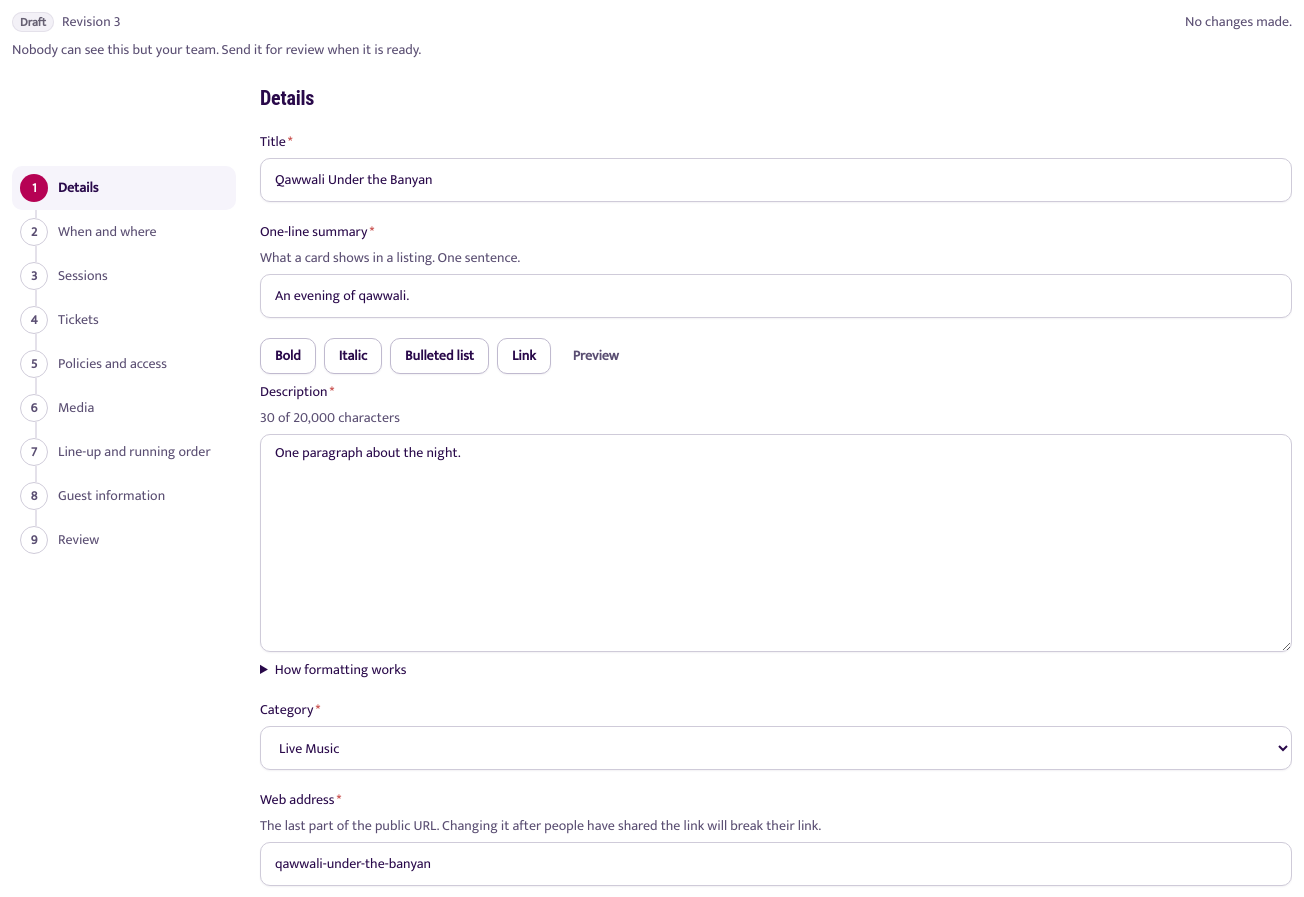
Test case: when somebody else has saved first › keeps the unsaved text on screen so it can be copied
Clear the field labelled "Title*": (776, 180) [260,158,1292,202]
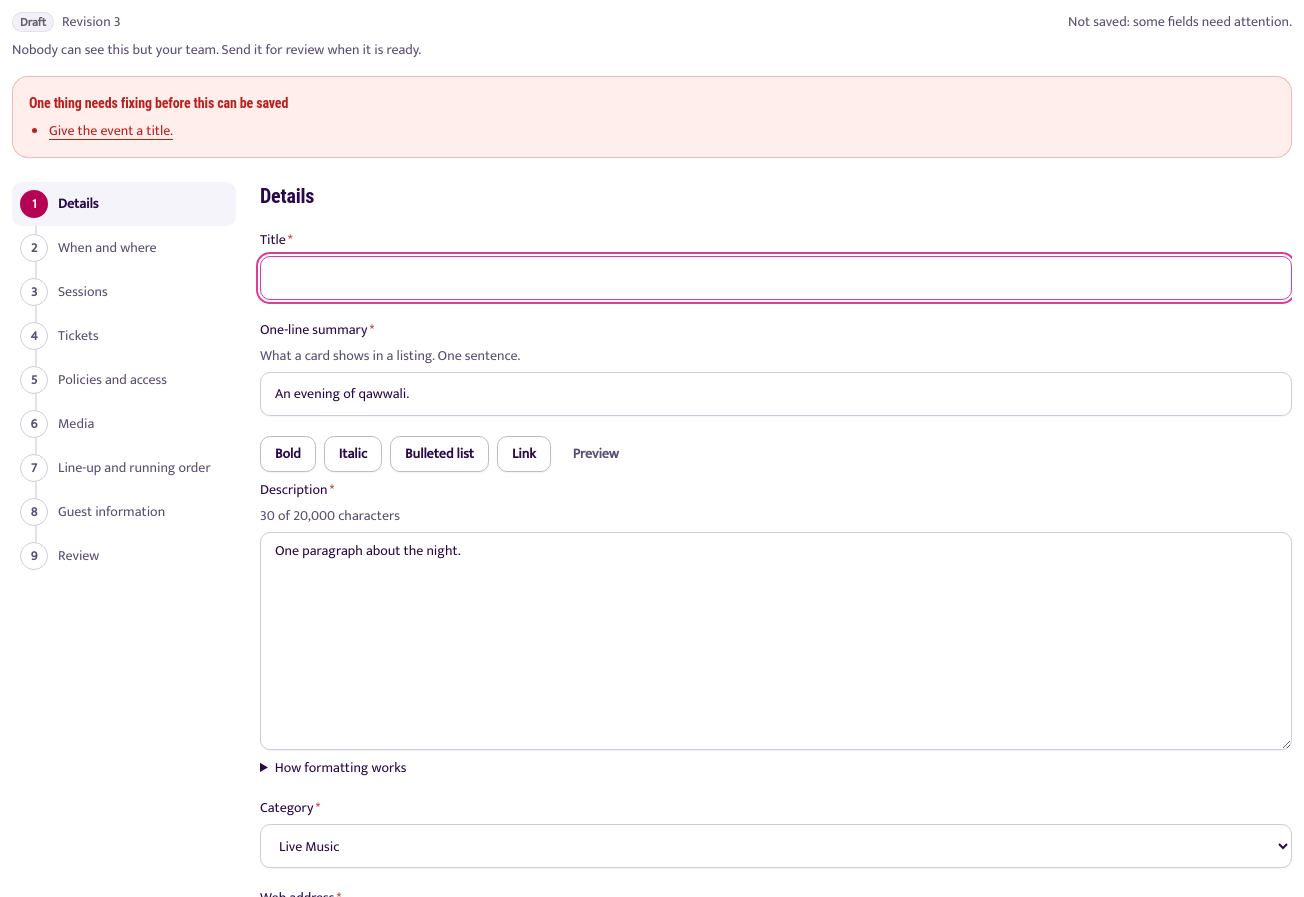
In the field labelled "Title*": (776, 278) [260,256,1292,300], type "My afternoon of work"
Wait 2000 ms
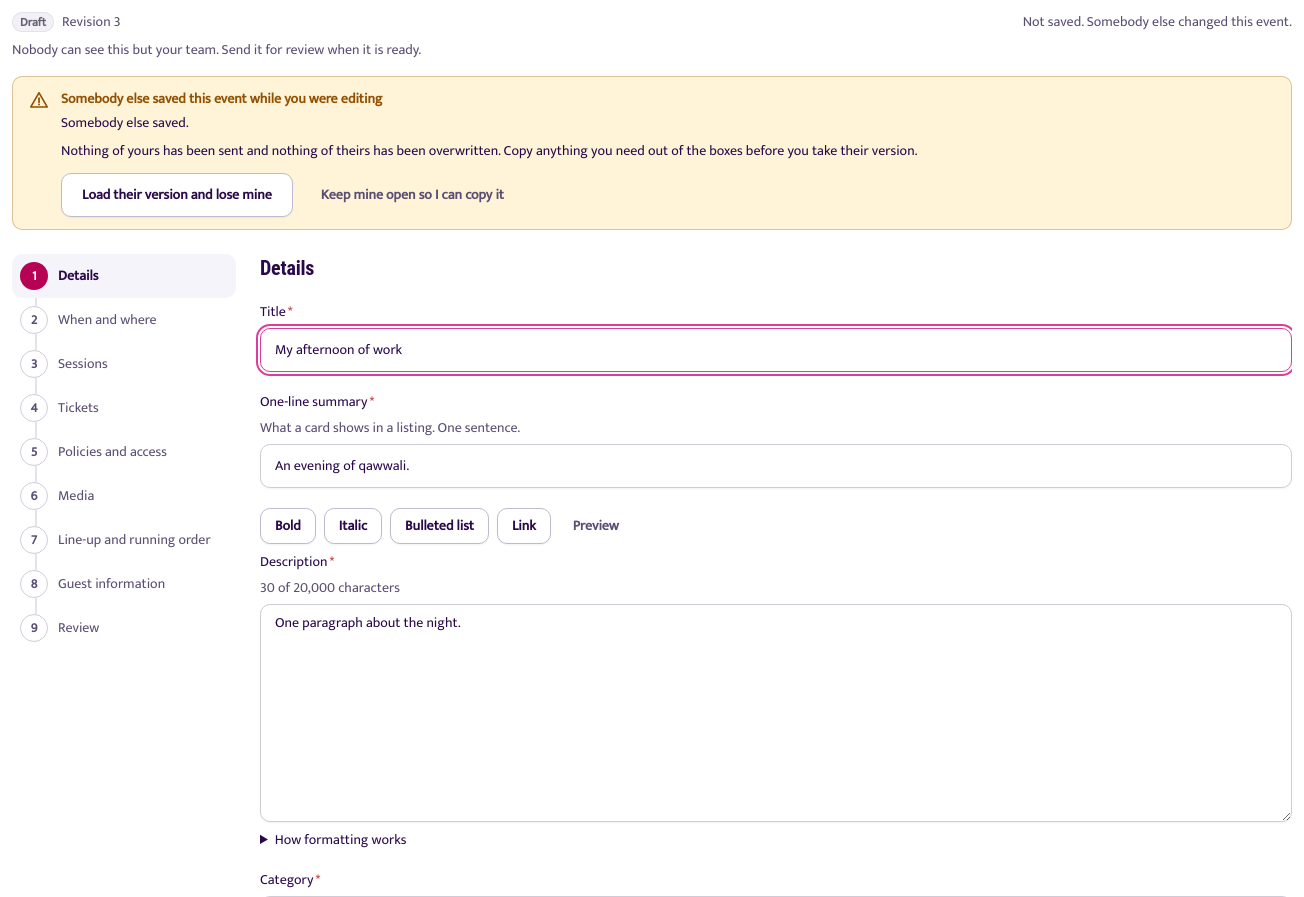
Check: the text "copy anything you need" is shown, box [61,139,918,162]
